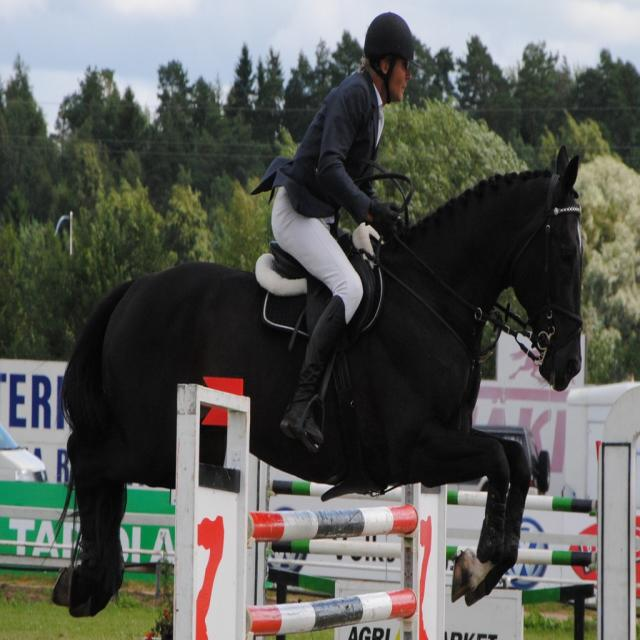Person: (251, 12, 422, 443)
